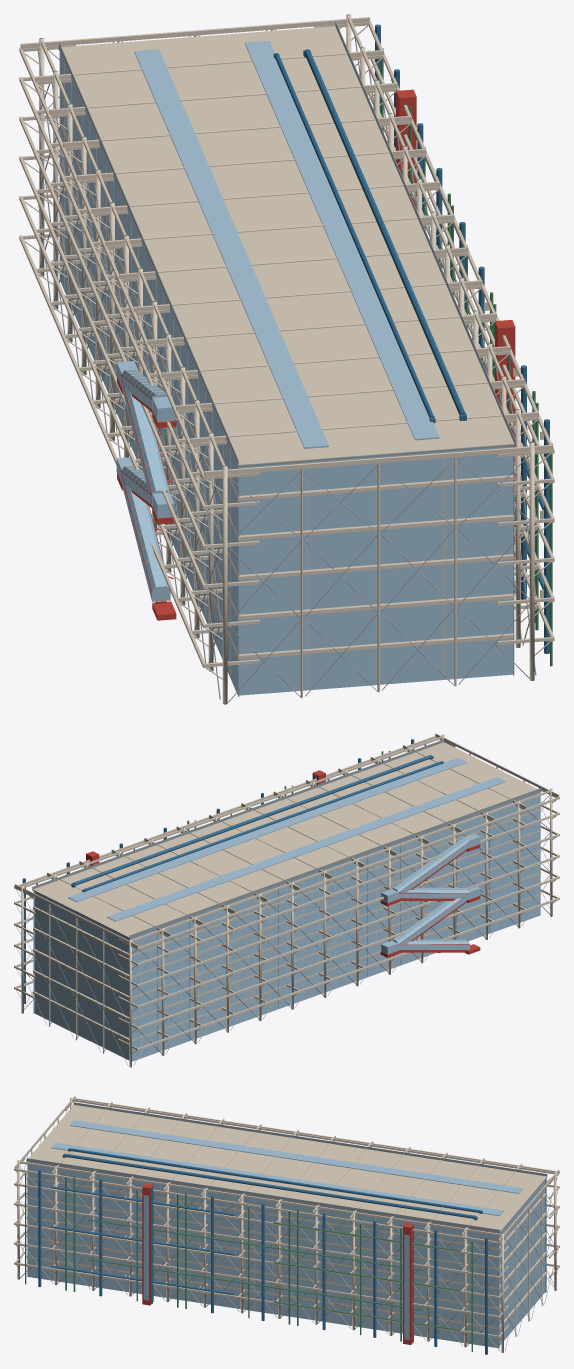
File: detail.glb
3 views of the same model, one above another, from view 1: azimuth 30°, elevation 25°; view 2: azimuth 150°, elevation 25°; view 3: azimuth 270°, elevation 25° (orthographic). The views are drawn at different scales.
Parts seen in each view (by area): view 1: trim, glass, roof, stone, terracotta, metal; view 2: trim, glass, roof, stone, terracotta; view 3: trim, glass, stone, roof, metal, terracotta.
Part boxes in pixels (x1,y1,x2,y2): trim: (19,14,554,704); glass: (59,40,514,696); roof: (37,21,536,702); stone: (273,24,549,653); terracotta: (117,89,515,620); metal: (380,48,552,666); trim: (14,733,559,1067); glass: (33,757,540,1061); roof: (21,739,551,1065); stone: (22,739,443,1003); terracotta: (86,770,480,957); trim: (14,1096,559,1352); glass: (27,1120,546,1348); stone: (38,1148,487,1354); roof: (17,1102,556,1351); metal: (25,1172,472,1351); terracotta: (142,1183,413,1344).
Size of the model in its own units: 110 by 42.4 by 175.
